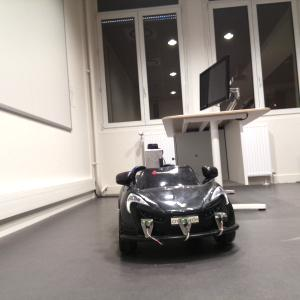big: (117, 165, 240, 252)
